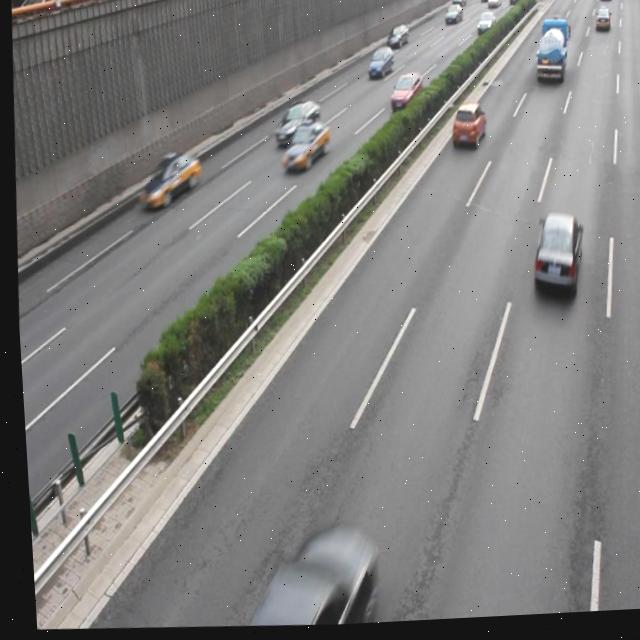car: (246, 527, 371, 631), (522, 212, 581, 305), (132, 149, 199, 210), (276, 119, 328, 175), (270, 101, 320, 151), (445, 106, 484, 153), (386, 74, 422, 115), (364, 48, 393, 84)
